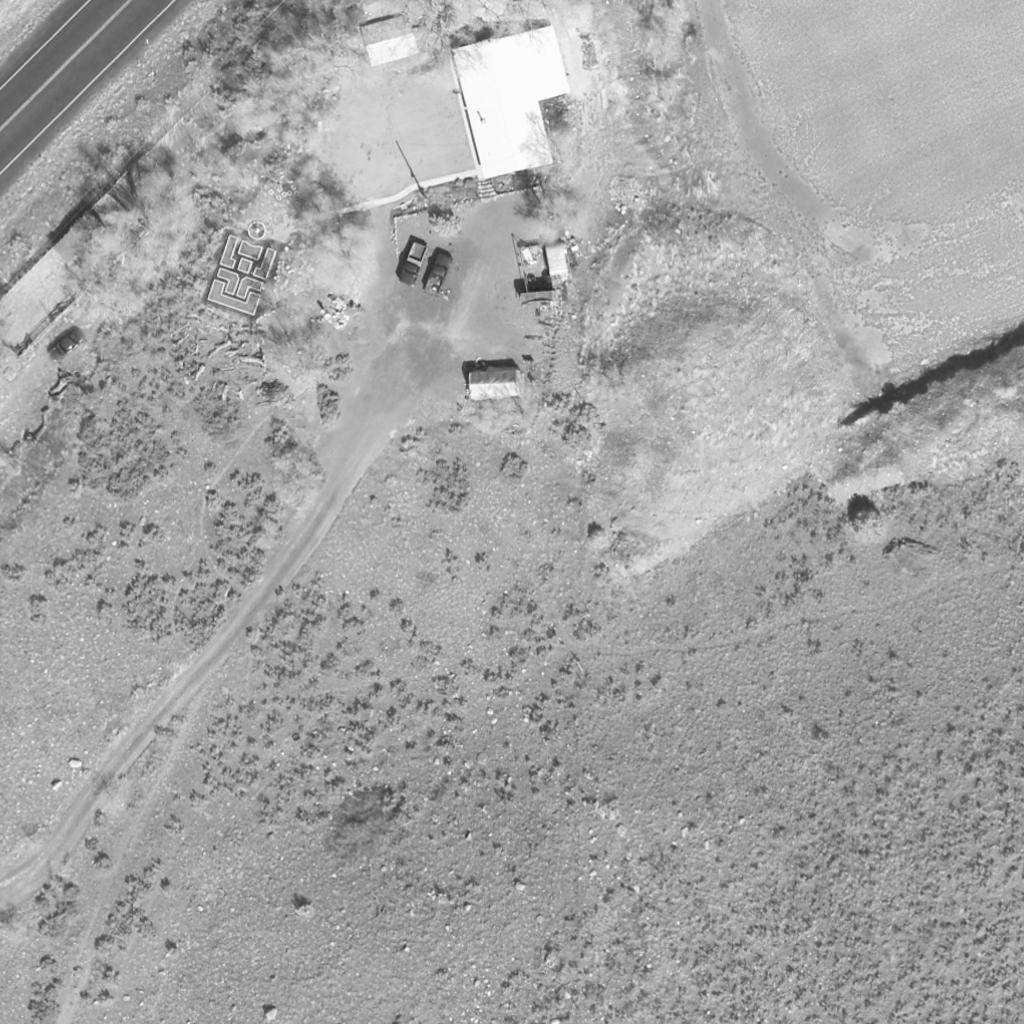vehicle: (399, 241, 431, 285), (423, 252, 455, 296), (48, 330, 86, 364)
